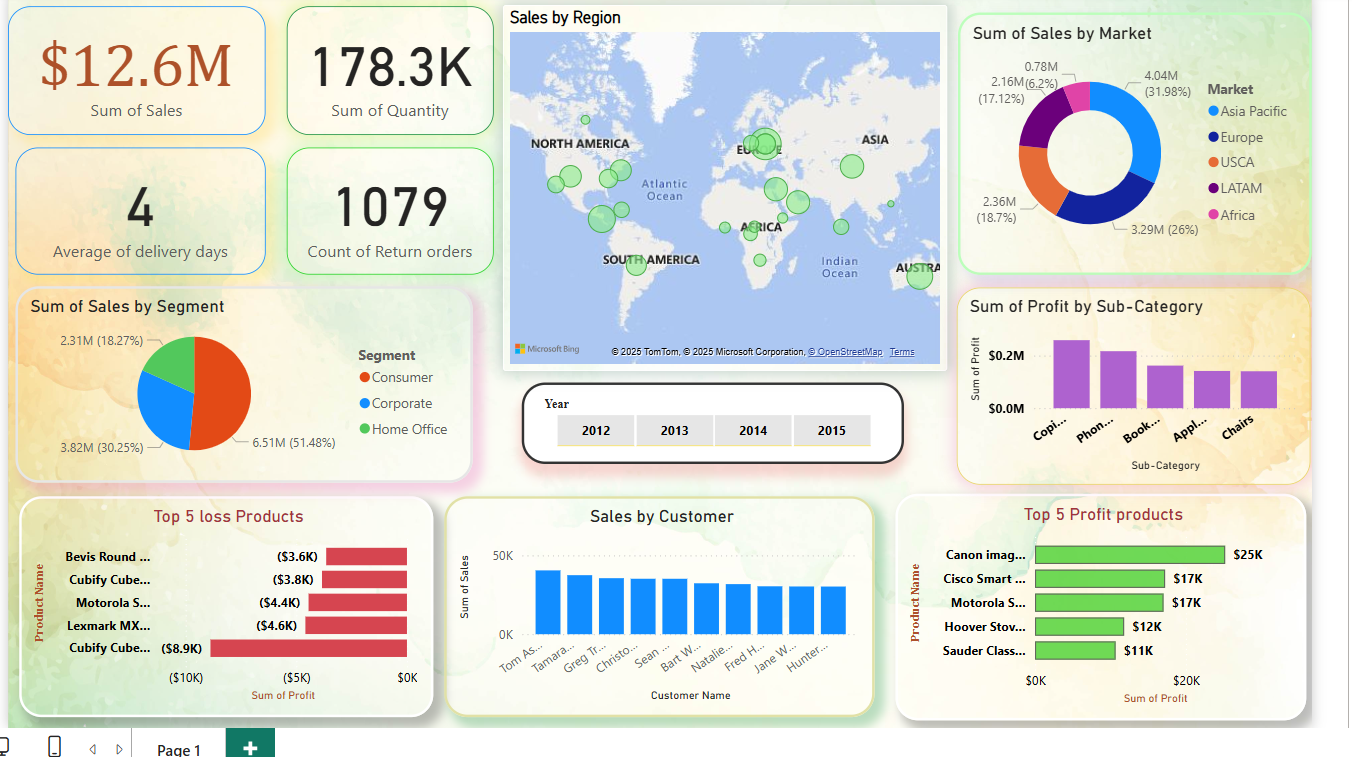

What the dashboard file says about the page in this screenshot:
{"tool":"powerbi","page":{"name":"Page 1","canvas":[1280,720],"ordinal":0},"visuals":[{"type":"card","fields":{"Values":["Orders.Quantity"]},"box":[273.1,11,203.1,126.2],"z":0},{"type":"card","fields":{"Values":["Orders.Sales"]},"box":[0,11,252.5,126.2],"z":1000},{"type":"card","fields":{"Values":["Orders.delivery days"]},"box":[6.9,149.6,245.6,124.9],"z":2000},{"type":"slicer","fields":{"Values":["Orders.year"]},"box":[504.3,380.4,375.5,80],"z":3000},{"type":"card","fields":{"Values":["Returns.Return orders"]},"box":[273.1,149.6,203.1,124.9],"z":4000},{"type":"map","title":" Sales by Region","fields":{"Category":["Orders.Region"],"Size":["Orders.Sales"]},"box":[485.8,9.6,436.4,359.5],"z":5000},{"type":"clusteredBarChart","title":"Top 5 Profit products","fields":{"Category":["Orders.Product Name"],"Y":["Orders.Profit"]},"box":[871.4,489.9,403.4,222.3],"z":6000},{"type":"barChart","title":"Top 5 loss Products","fields":{"Category":["Orders.Product Name"],"Y":["Orders.Profit"]},"box":[11,492.6,406.2,216.8],"z":7000},{"type":"donutChart","fields":{"Y":["Orders.Sales"],"Category":["Orders.Market"]},"box":[932.5,17.2,347.2,257.7],"z":8000},{"type":"pieChart","fields":{"Category":["Orders.Segment"],"Y":["Orders.Sales"]},"box":[7.4,285.9,449.1,192.6],"z":9000},{"type":"clusteredColumnChart","title":"Sales by Customer","fields":{"Category":["Orders.Customer Name"],"Y":["Orders.Sales"]},"box":[428.1,492.6,422.6,216.8],"z":10000},{"type":"clusteredColumnChart","fields":{"Category":["Orders.Sub-Category"],"Y":["Orders.Profit"]},"box":[931.7,286.8,347.2,193.5],"z":11000}]}

Visuals, with their boxes on the page's 1280x720 design canvas (x1, y1, x2, y2). These are canvas units, not pixel positions in the 1352x757 screenshot, which may show the page scaled, cropped or inside an application window:
card - Orders.Quantity: bbox(273, 11, 476, 137)
card - Orders.Sales: bbox(0, 11, 252, 137)
card - Orders.delivery days: bbox(7, 150, 252, 274)
slicer - Orders.year: bbox(504, 380, 880, 460)
card - Returns.Return orders: bbox(273, 150, 476, 274)
" Sales by Region" map: bbox(486, 10, 922, 369)
"Top 5 Profit products" clusteredBarChart: bbox(871, 490, 1275, 712)
"Top 5 loss Products" barChart: bbox(11, 493, 417, 709)
donutChart - Orders.Sales x Orders.Market: bbox(932, 17, 1280, 275)
pieChart - Orders.Segment x Orders.Sales: bbox(7, 286, 456, 478)
"Sales by Customer" clusteredColumnChart: bbox(428, 493, 851, 709)
clusteredColumnChart - Orders.Sub-Category x Orders.Profit: bbox(932, 287, 1279, 480)
